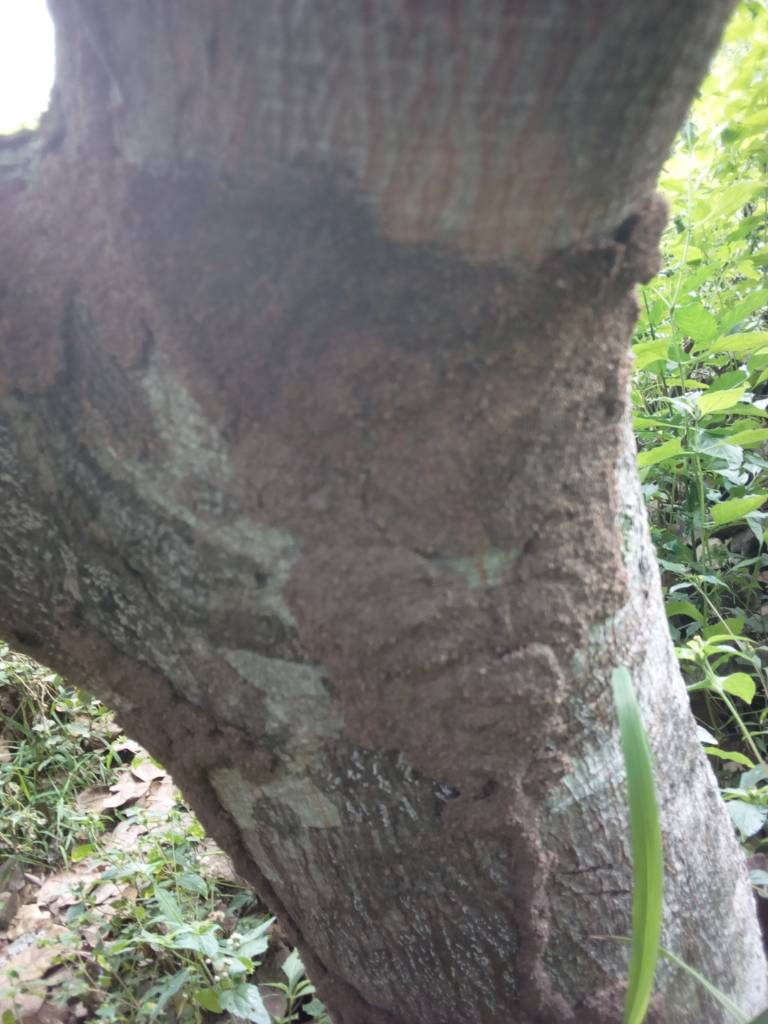Termites: (116, 167, 655, 782), (488, 810, 585, 1014)
